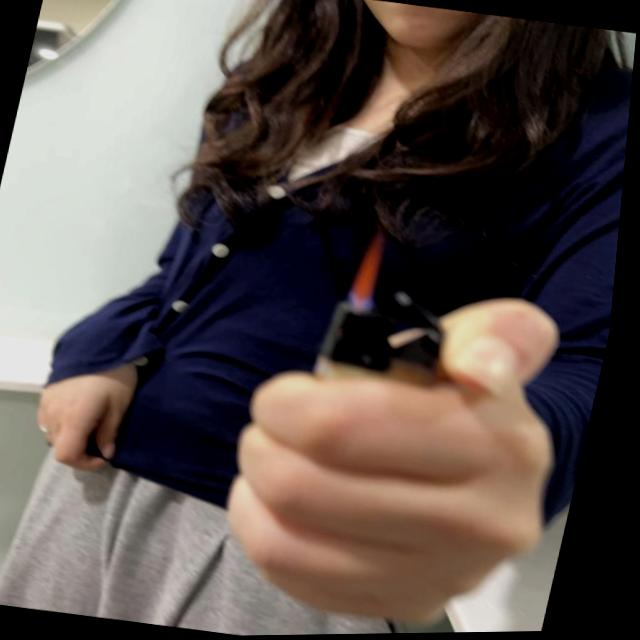helmet: (345, 222, 397, 318)
